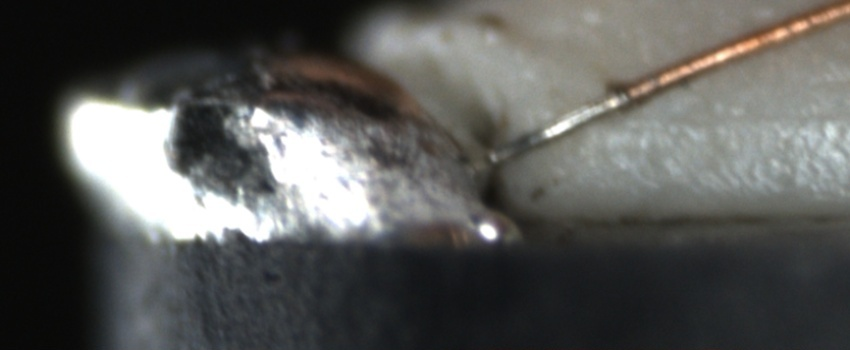DL: (628, 83, 850, 147)
TS: (487, 91, 630, 165)
TTCW: (488, 70, 666, 163)
